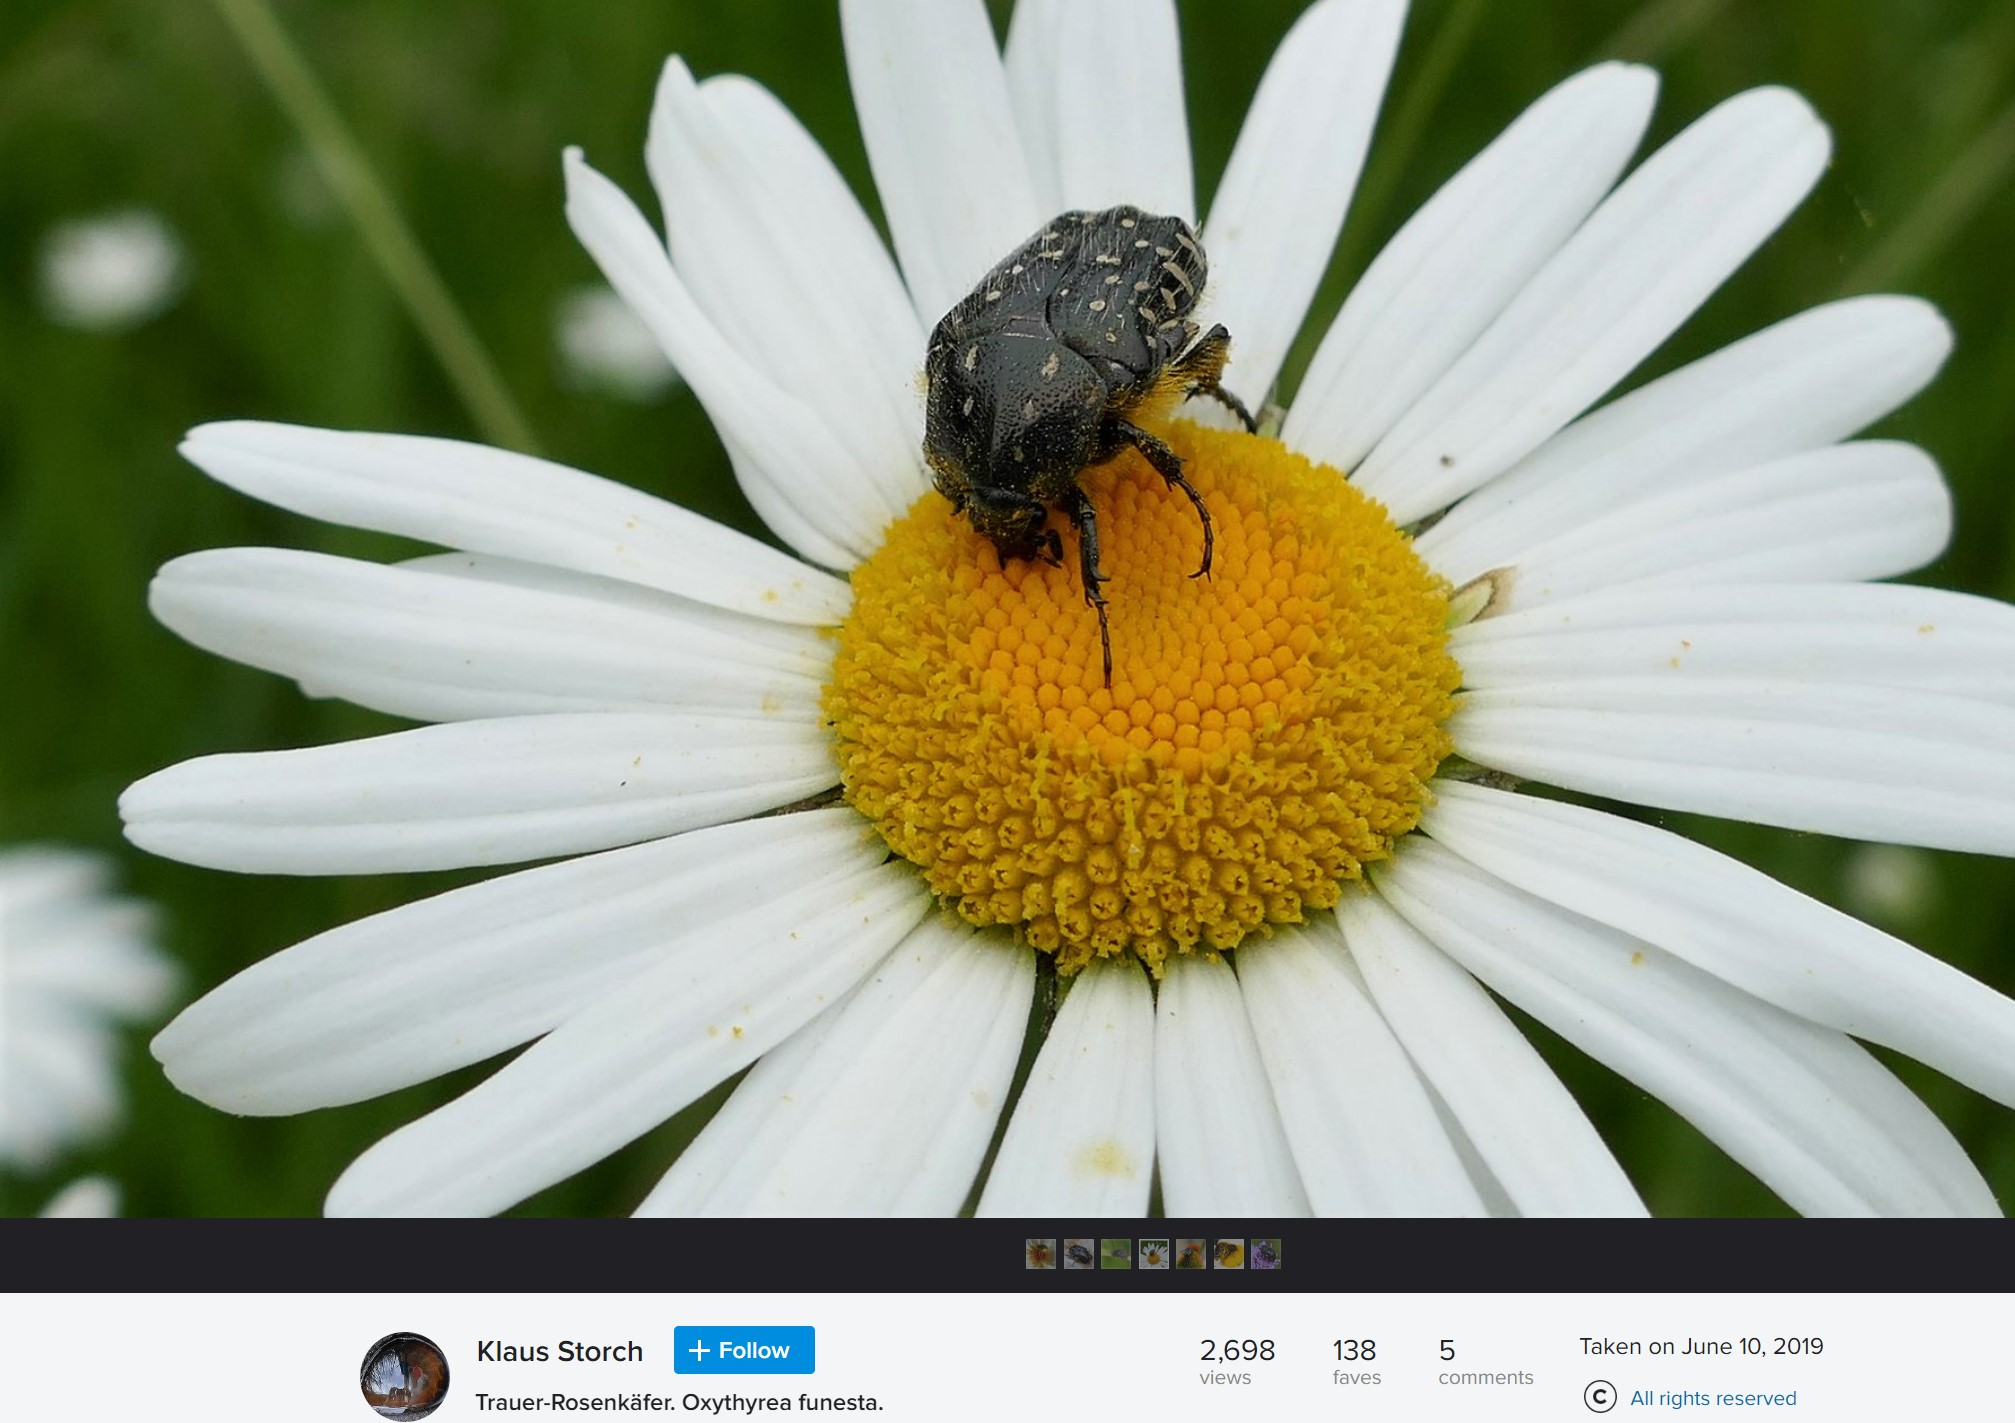Oxythyrea_funesta: (911, 183, 1267, 691)
